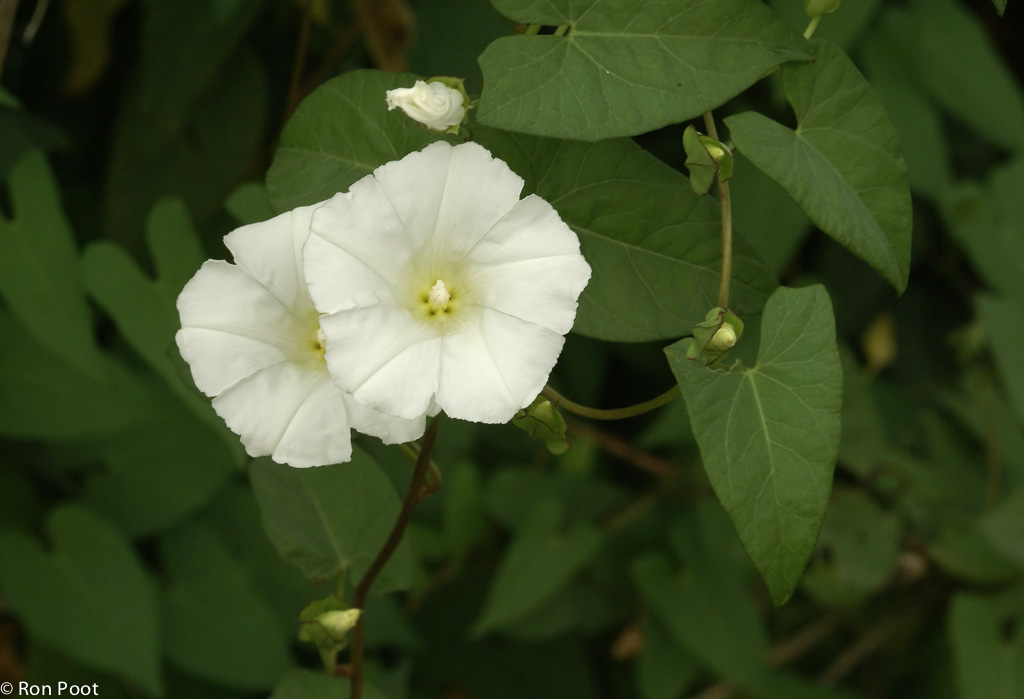haagwinde: (160, 1, 936, 631)
